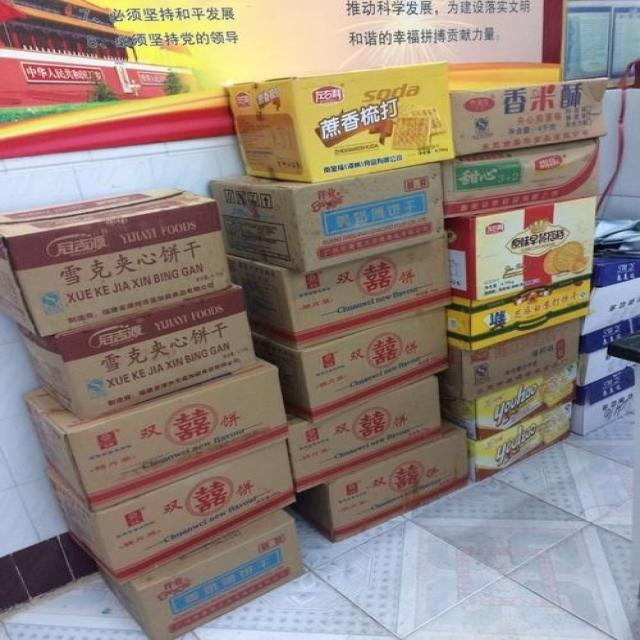box: (22, 356, 290, 510), (44, 437, 295, 586), (0, 187, 233, 339), (16, 283, 258, 419), (226, 61, 455, 183), (96, 509, 304, 639), (209, 161, 446, 273), (227, 238, 453, 350), (287, 415, 469, 543), (251, 306, 450, 423), (286, 374, 442, 493), (444, 196, 596, 300), (440, 135, 599, 218), (448, 77, 608, 156), (433, 318, 578, 400), (445, 273, 593, 351), (439, 362, 575, 441), (467, 400, 571, 480), (578, 255, 639, 355), (571, 368, 635, 435), (574, 336, 638, 389)
